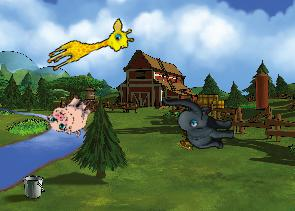elephant: (162, 92, 235, 152)
giraffe: (43, 15, 137, 82)
pig: (43, 87, 98, 143)
